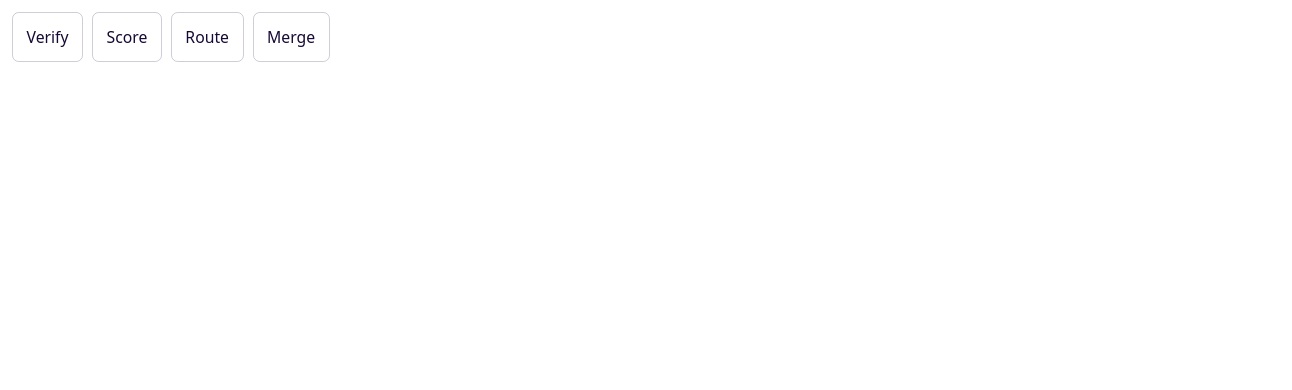
Scenario: CandidateActionPanel › requires a duplicate-of id before merge can submit
Click the button "Merge" at (291,37), box [252,12,330,62]
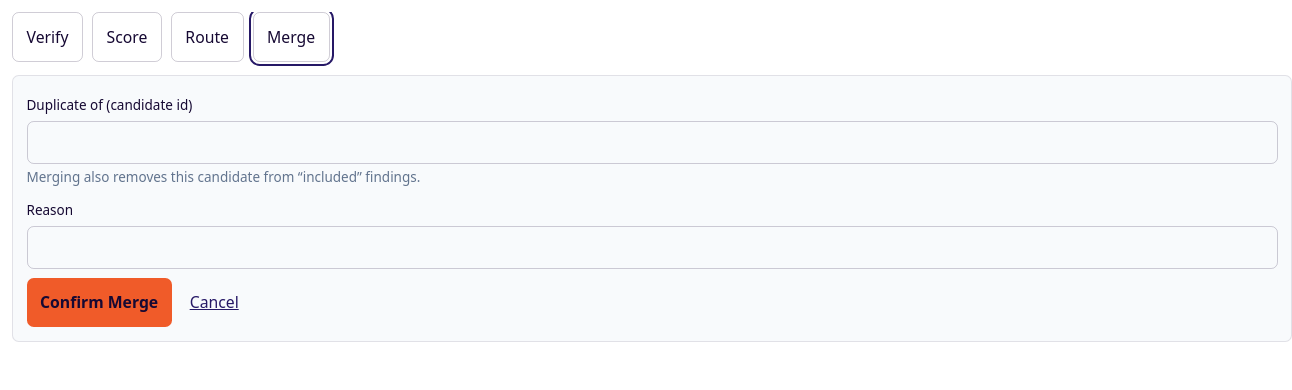
Type "duplicate" into the field labelled "Reason" at (652,248), box [26,226,1278,269]
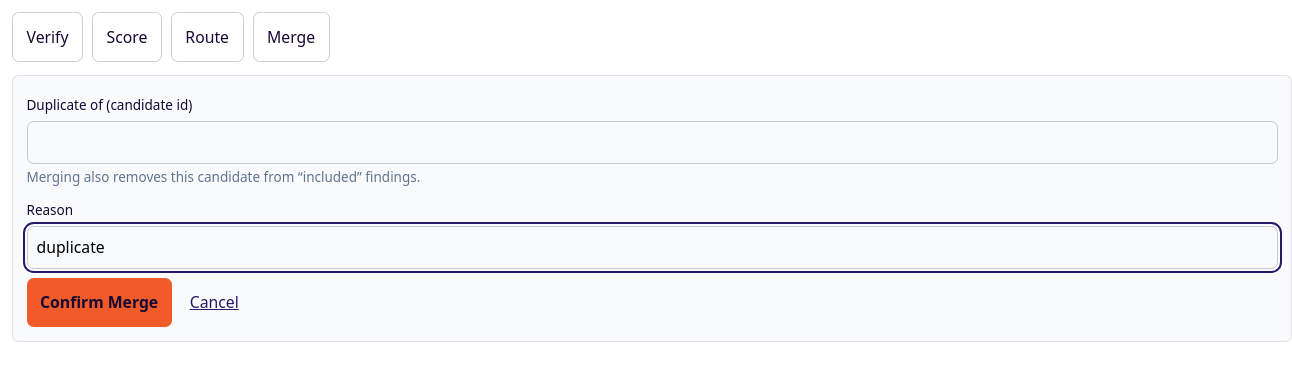
Click the button "Confirm Merge" at (99,303), box [26,278,172,328]
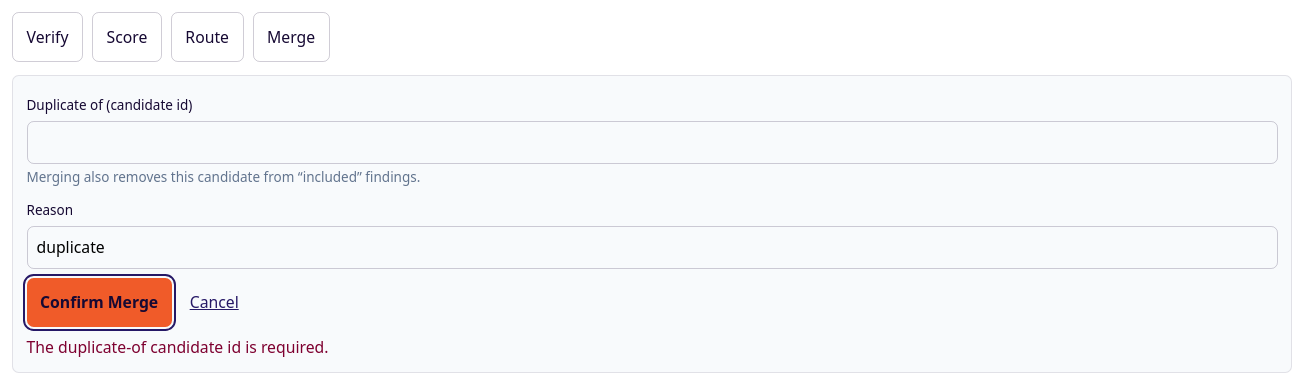
Expected: the message shows "duplicate-of candidate id is required", [26,336,328,358]
